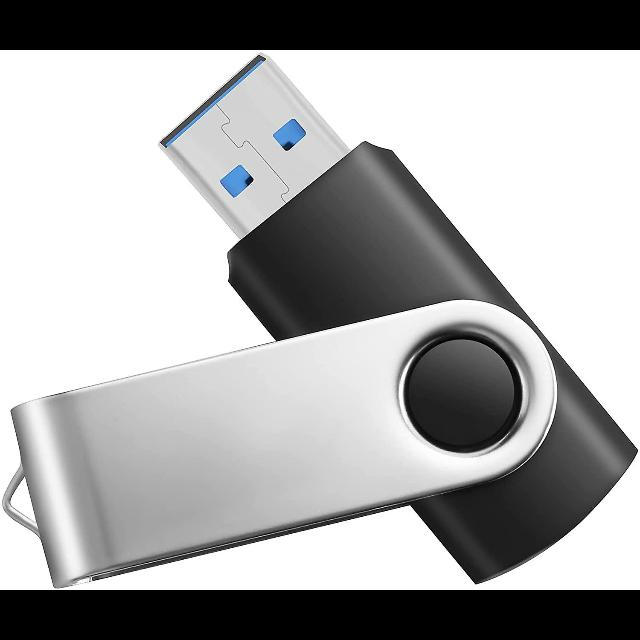USB-Flash-Drive: (159, 54, 640, 588)
